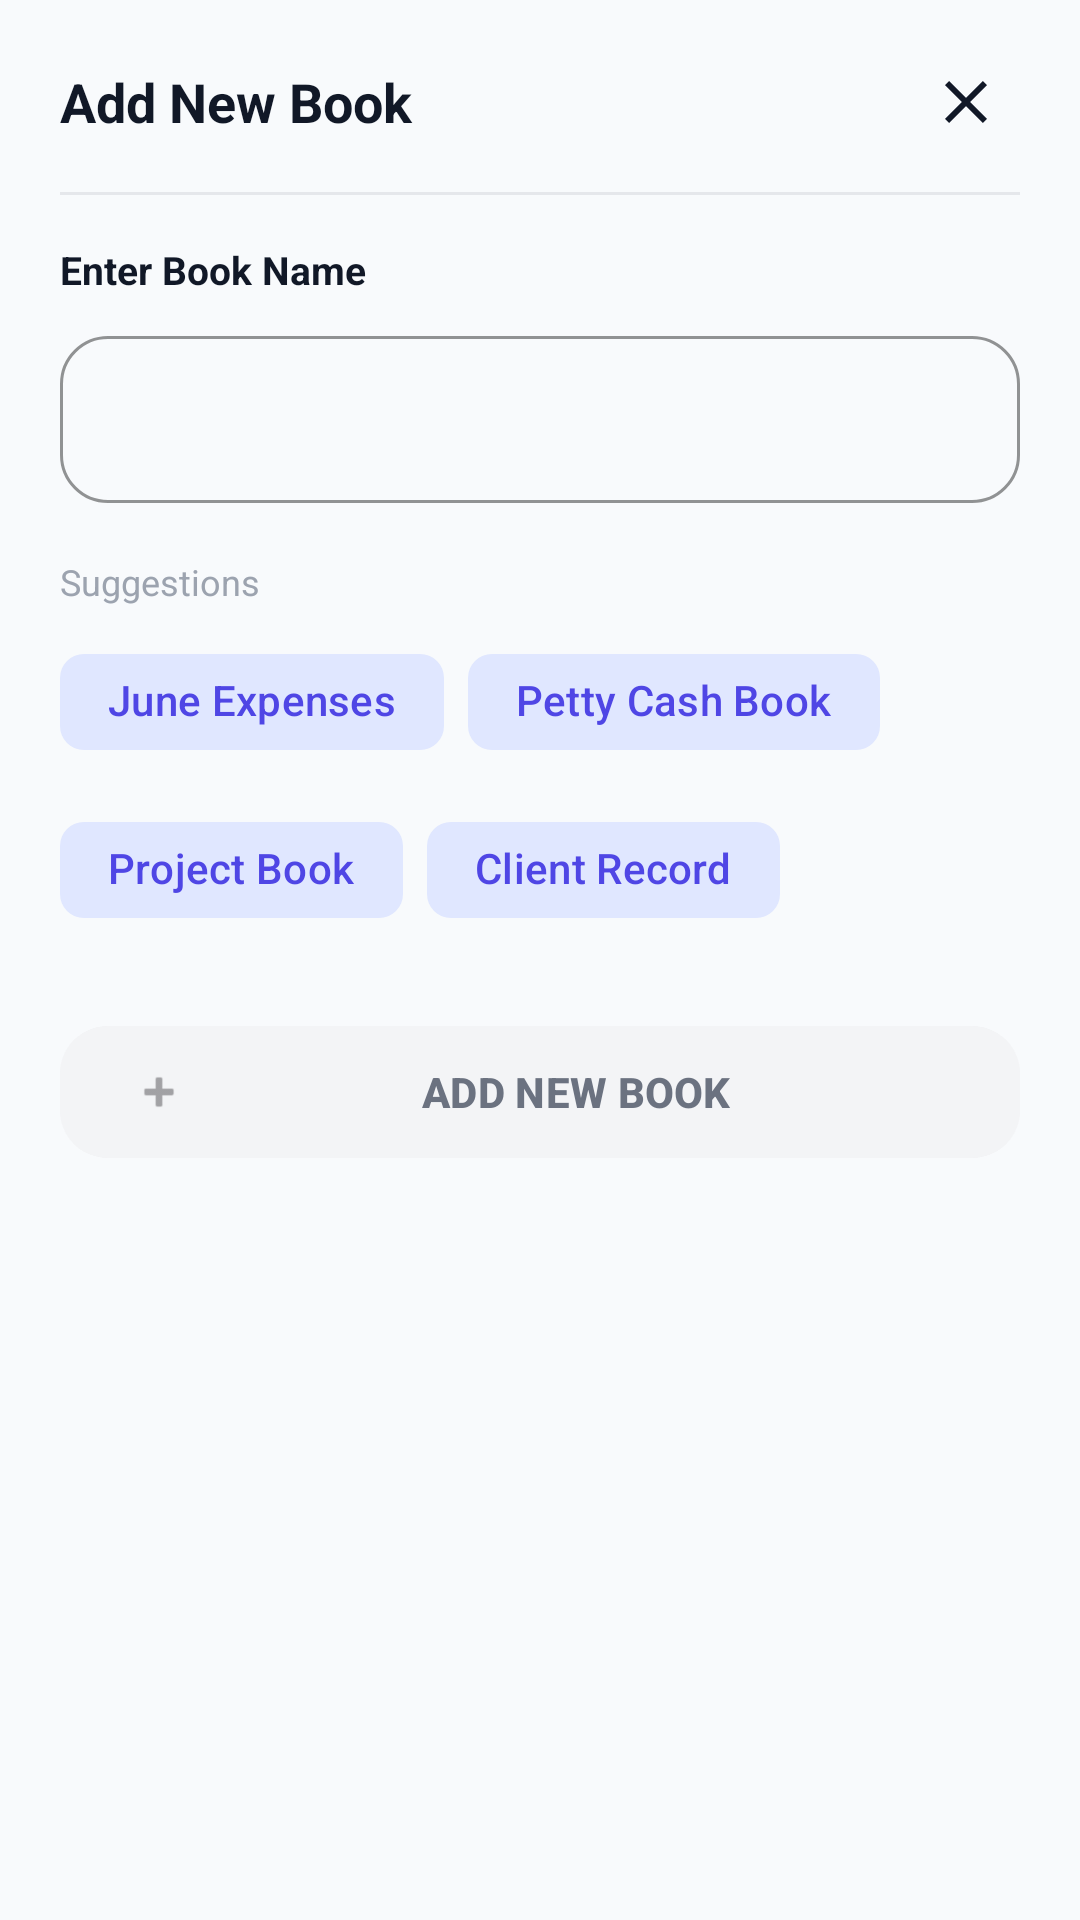

Where icons sit on this 1080px×1920px app screen, as [x1=x1, y1=y1, x2=x2, y2=y2]:
Close: [x1=945, y1=81, x2=987, y2=123]
